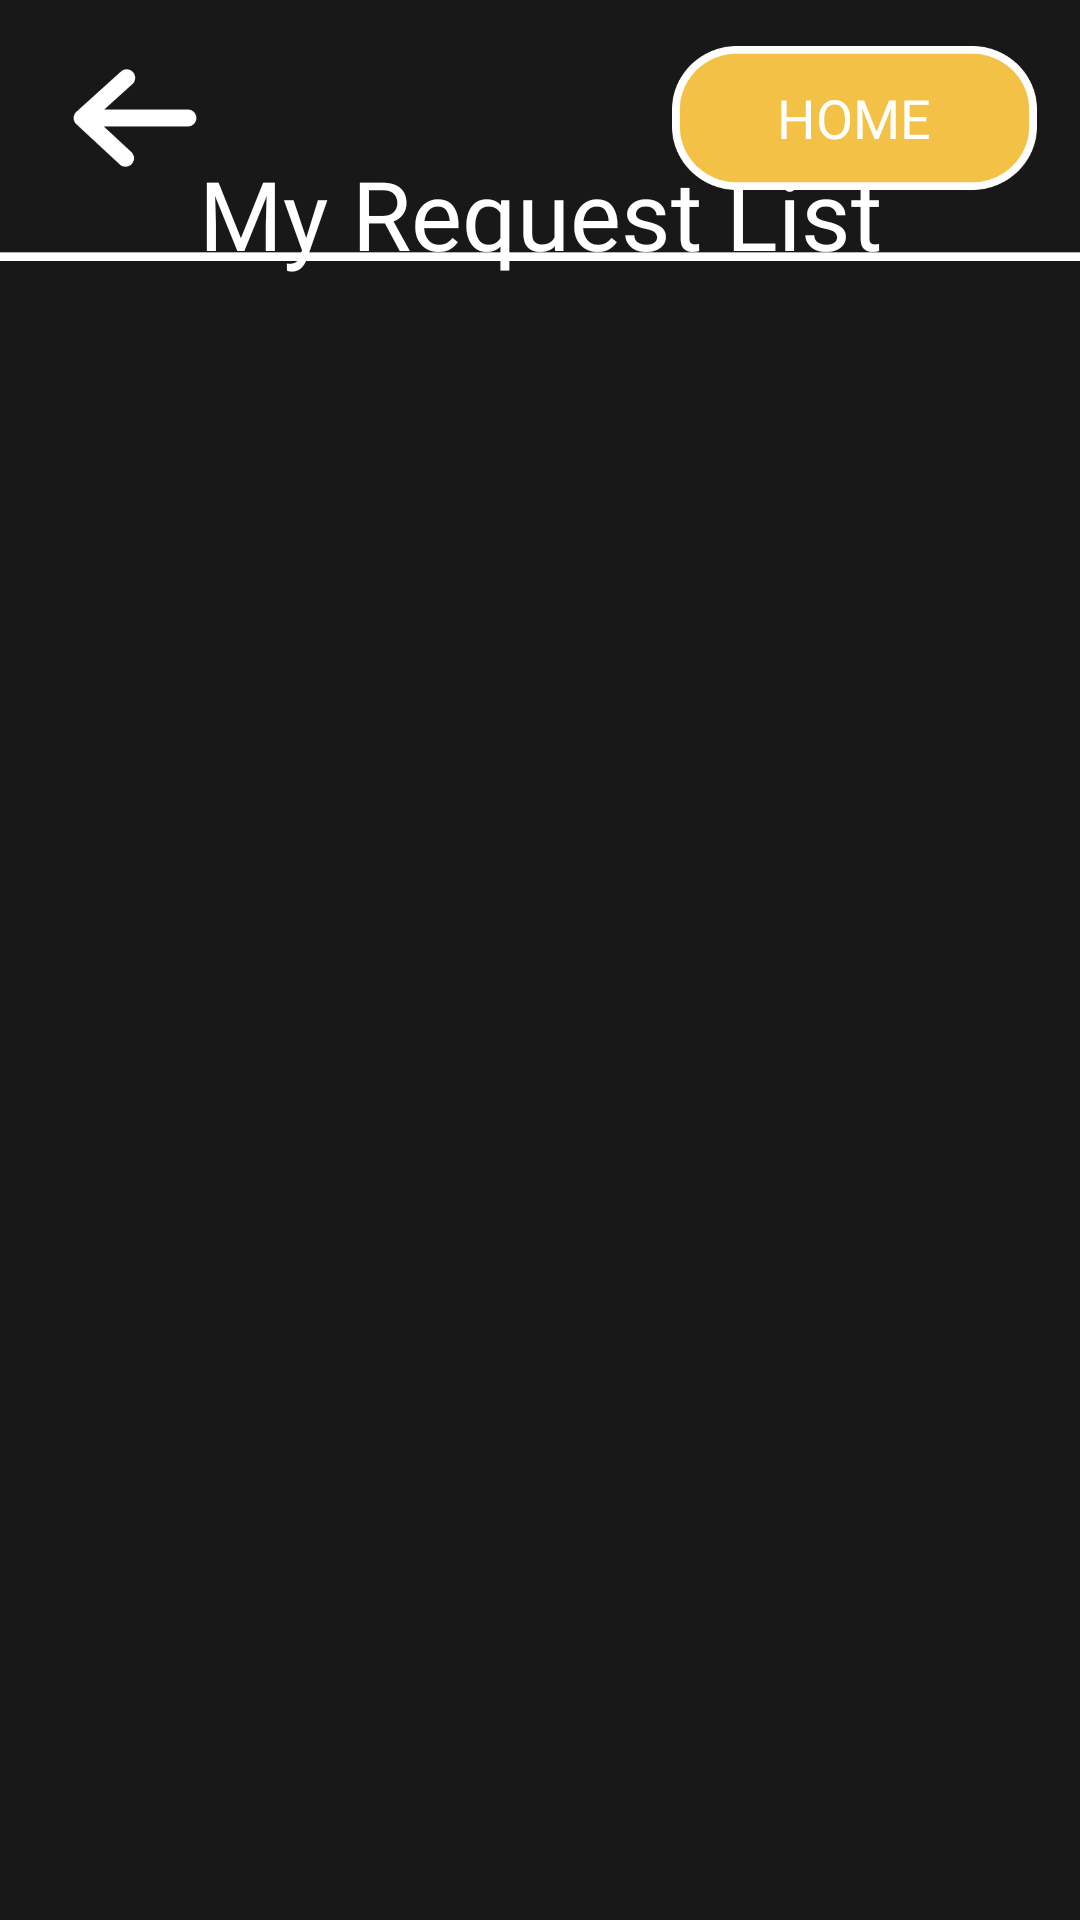

Screen size 1080w x 1920h. Icon name, then its box in pixels as (x1, y1, x2, y2):
back: (73, 69, 197, 167)
